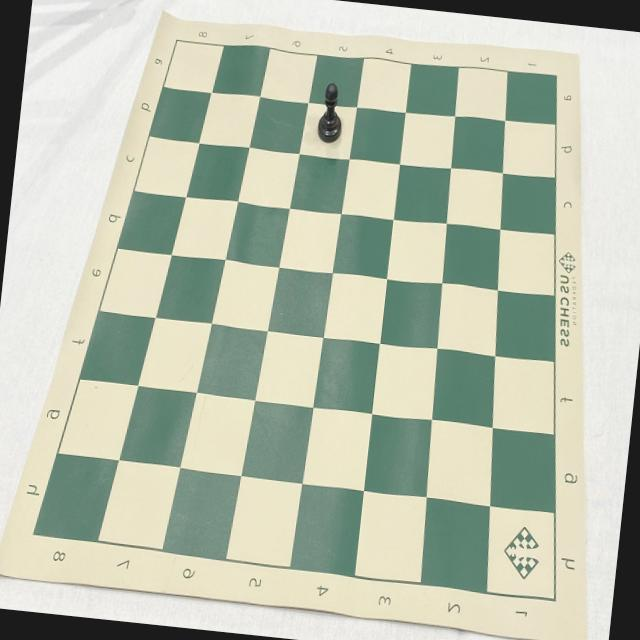black-pawn: (314, 82, 346, 144)
